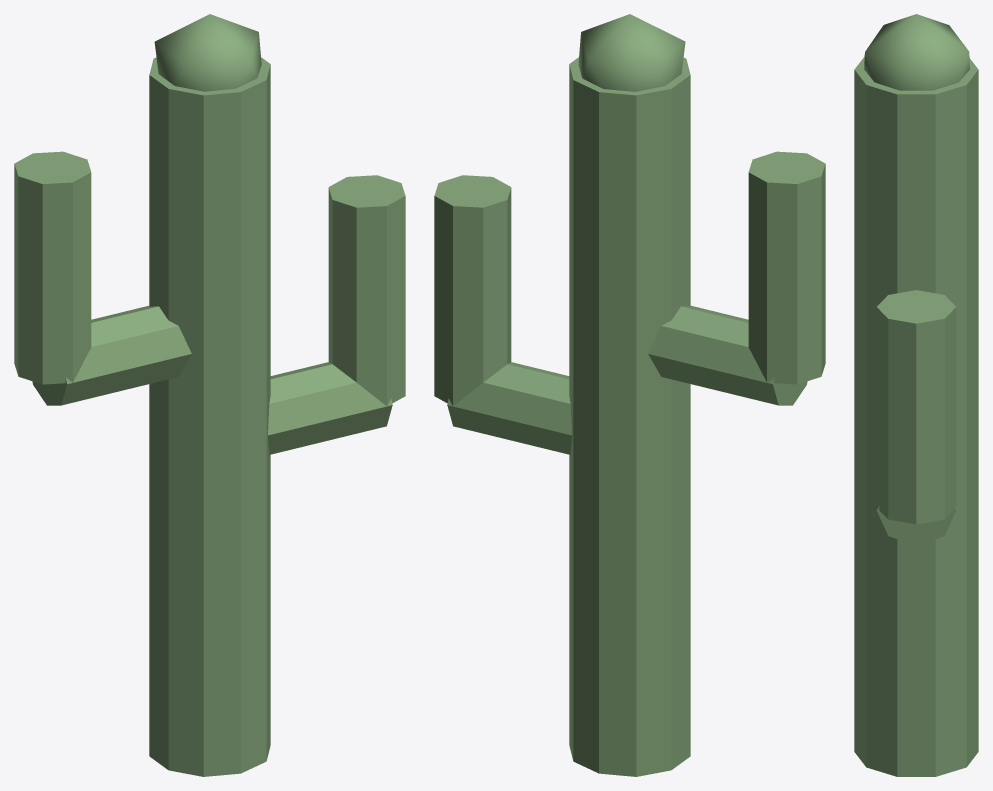
The model's file is cactus.glb.
The picture shows the model from 3 angles, left to right: view 1: azimuth 30°, elevation 25°; view 2: azimuth 150°, elevation 25°; view 3: azimuth 270°, elevation 25°; orthographic projection.
Parts seen in each view (by area): view 1: cactus; view 2: cactus; view 3: cactus.
Part boxes in pixels (box(x1,y1,x2,y2)): cactus: box(14, 14, 405, 776); cactus: box(434, 14, 825, 776); cactus: box(854, 14, 978, 776).
Bounding box in the file's own units: 2 × 3.68 × 0.56.
